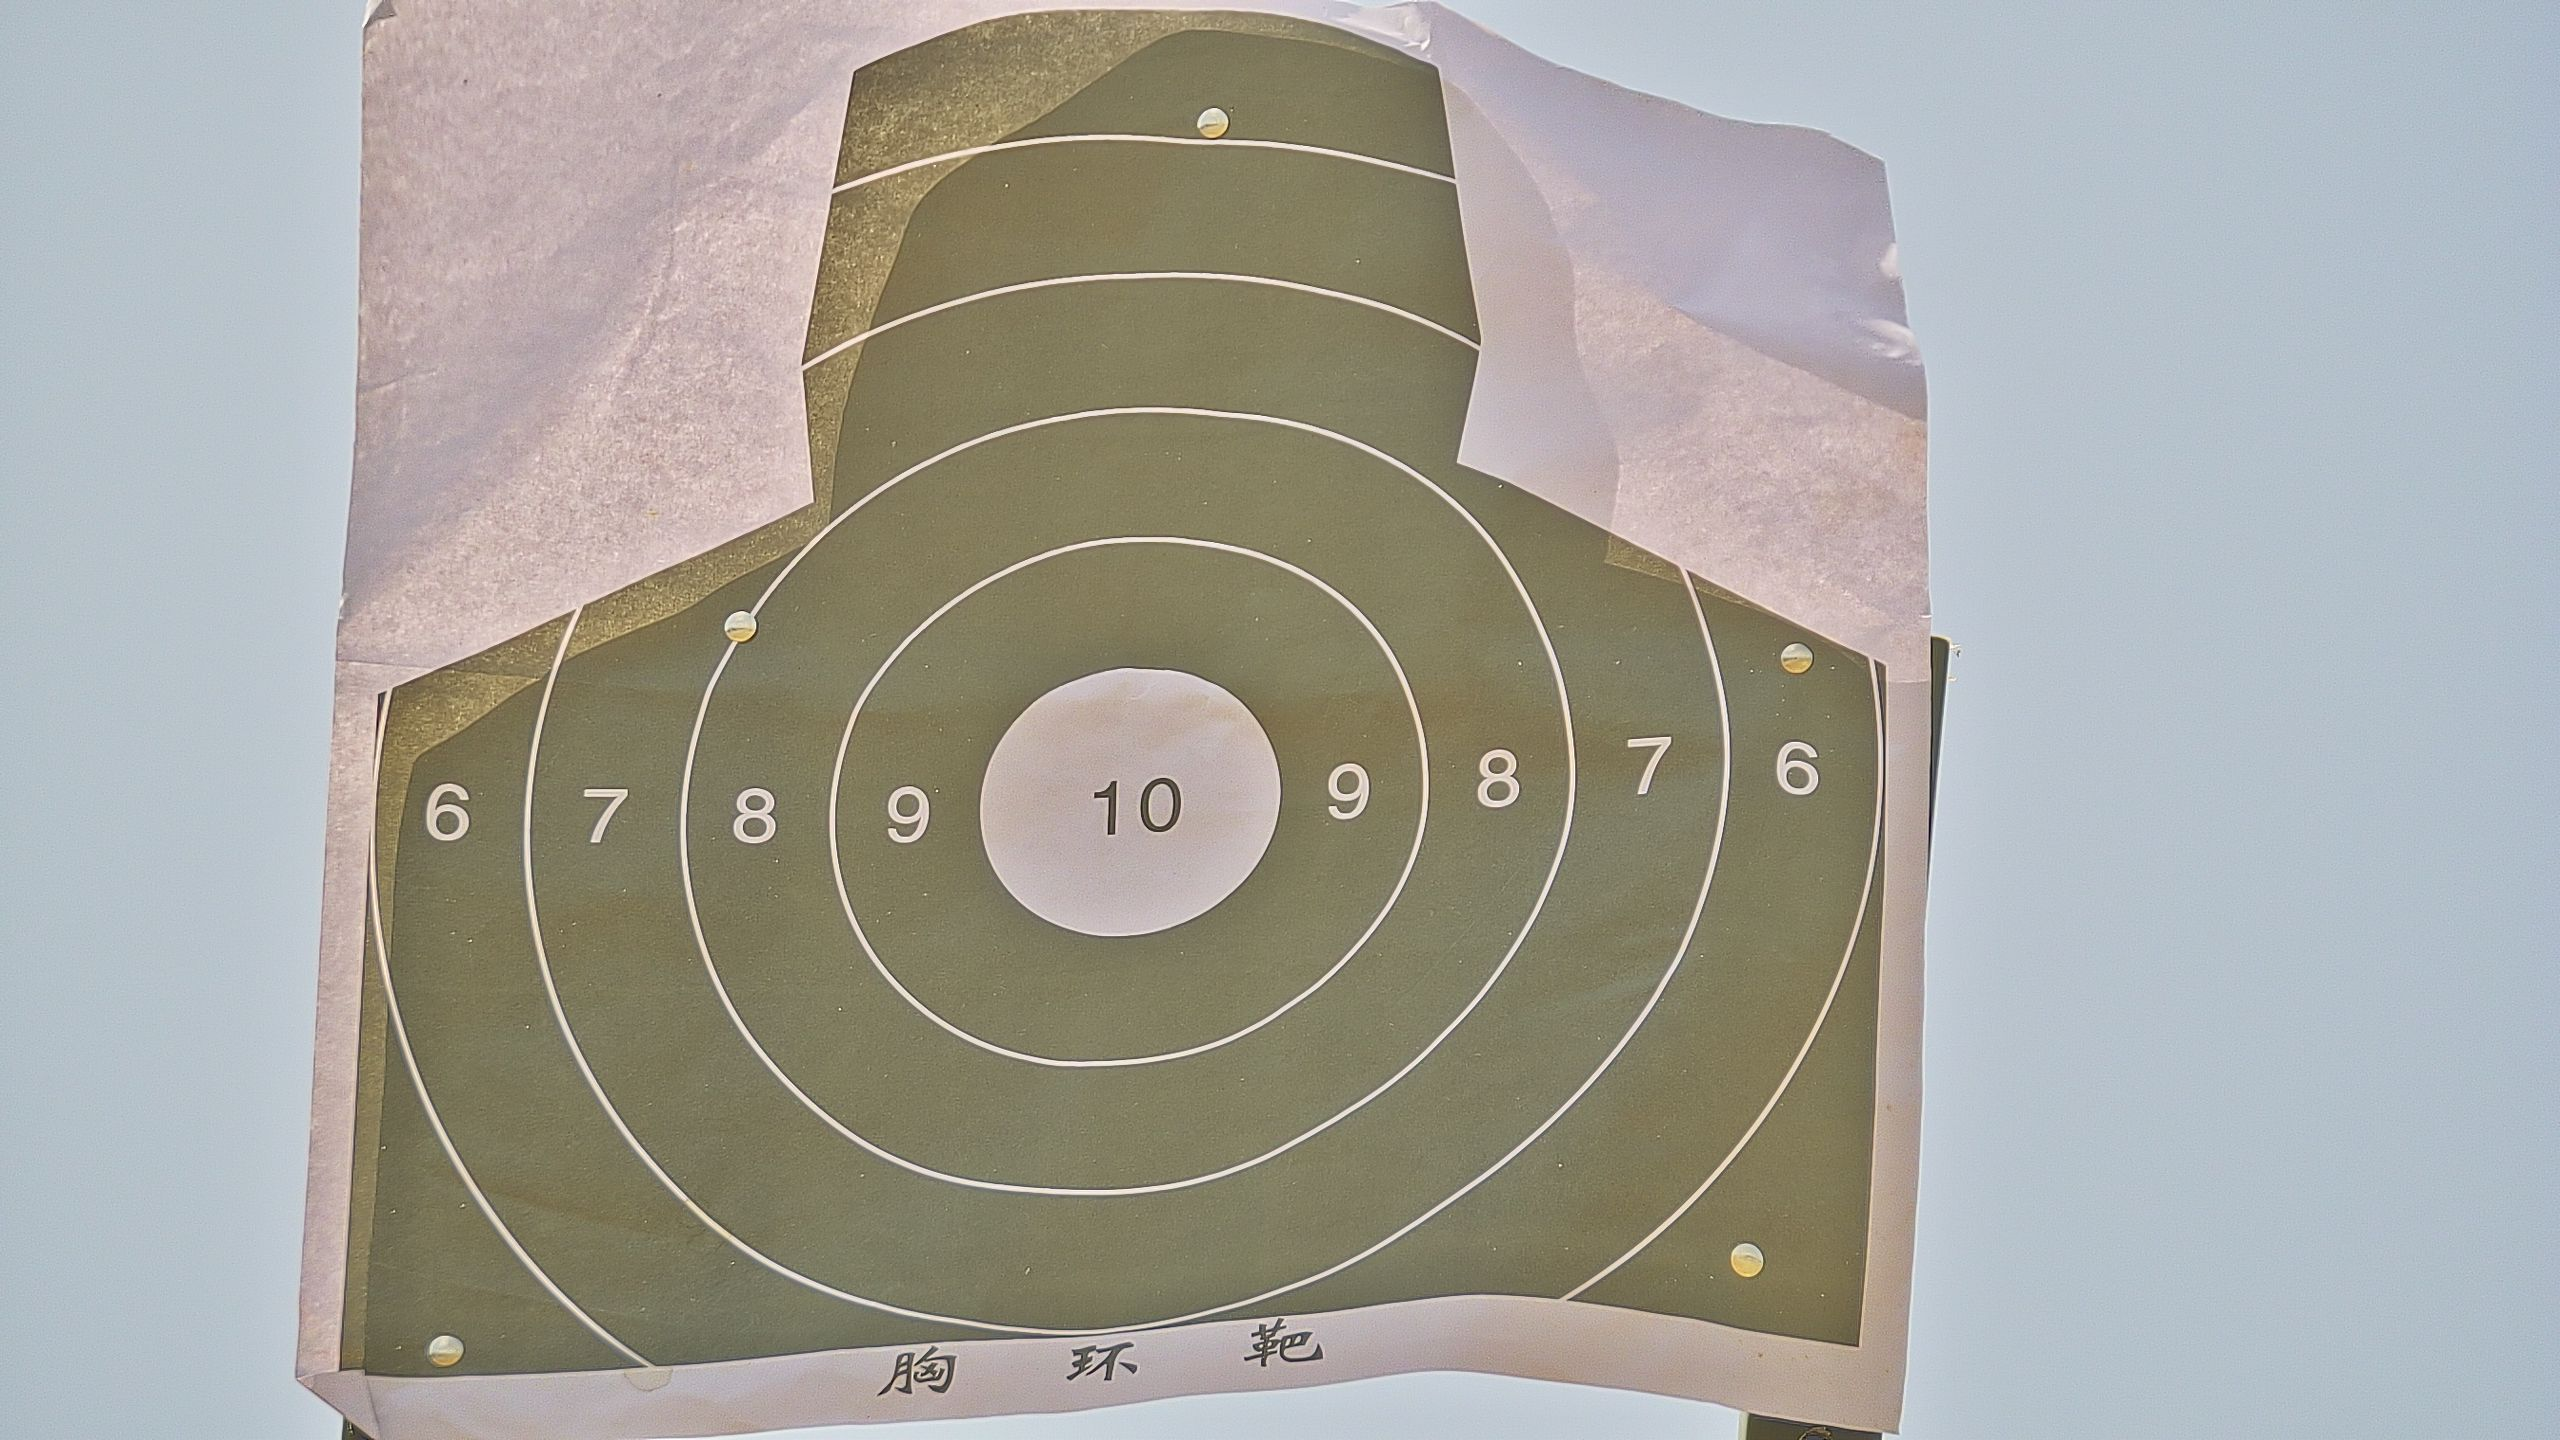target: (334, 2, 1881, 1378)
ten: (978, 663, 1289, 939)
